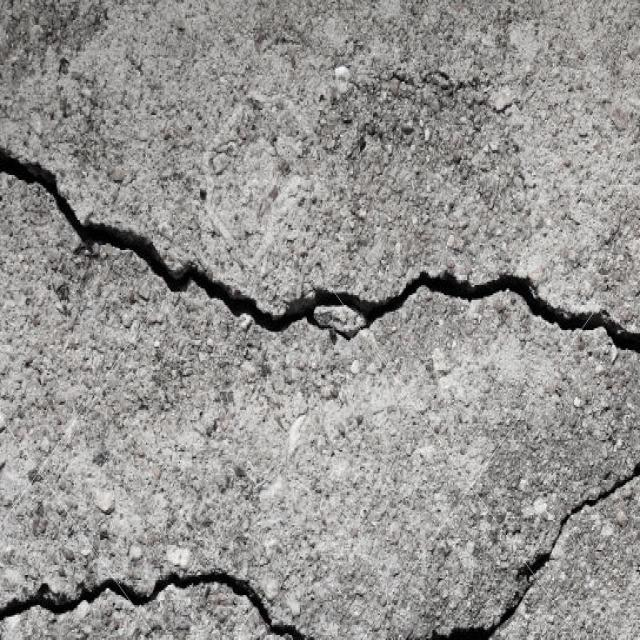Annular: (293, 282, 387, 348)
Transverse: (0, 147, 640, 388), (15, 449, 640, 640)
